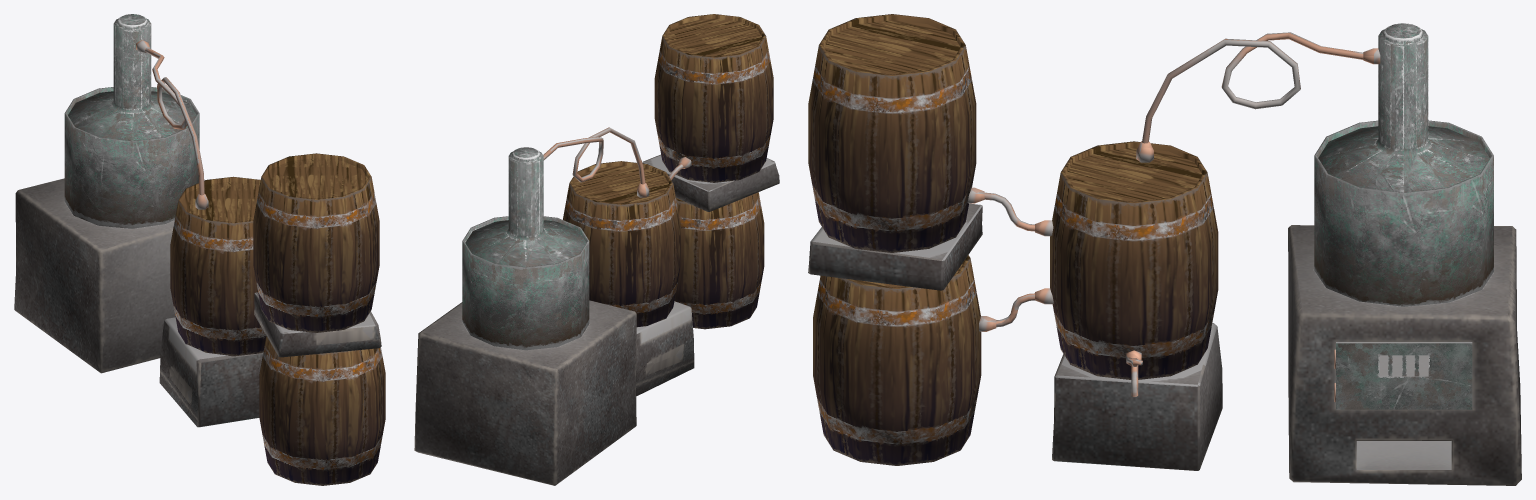
Rendered from A_Distiller_Fbx.fbx.
The picture shows the model from 3 angles, left to right: view 1: azimuth 30°, elevation 25°; view 2: azimuth 150°, elevation 25°; view 3: azimuth 270°, elevation 25°; orthographic projection. The views are drawn at different scales.
Parts seen in each view (by area): view 1: Cube.088; view 2: Cube.088; view 3: Cube.088, Cube.095.
Part boxes in pixels (<box>): Cube.088: <box>14,14,385,485</box>; Cube.088: <box>414,14,779,485</box>; Cube.088: <box>808,14,1521,485</box>; Cube.095: <box>1334,342,1472,409</box>.
Bounding box in the file's own units: 138 × 249 × 397.
4 materials, 4 textured.
